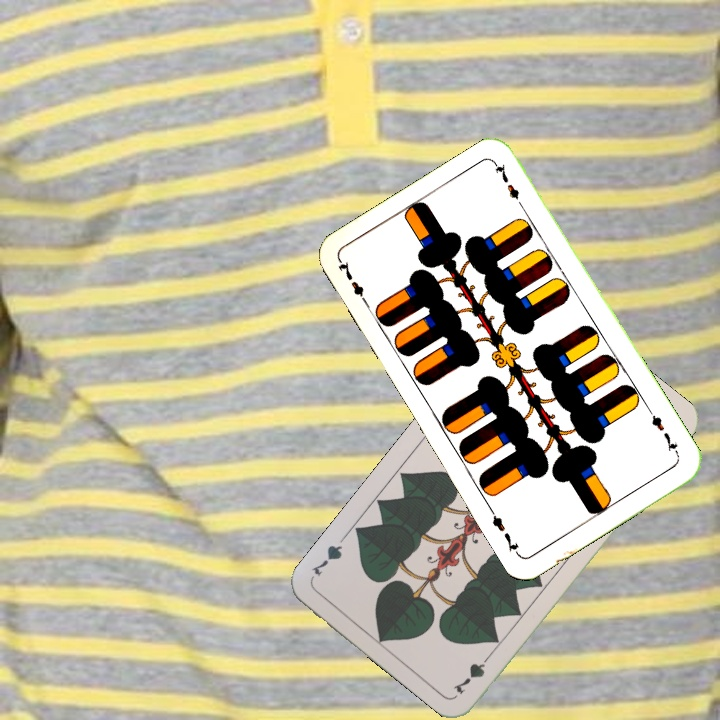E7: (644, 406, 682, 459), (334, 257, 372, 310)
G7: (448, 647, 496, 698)
